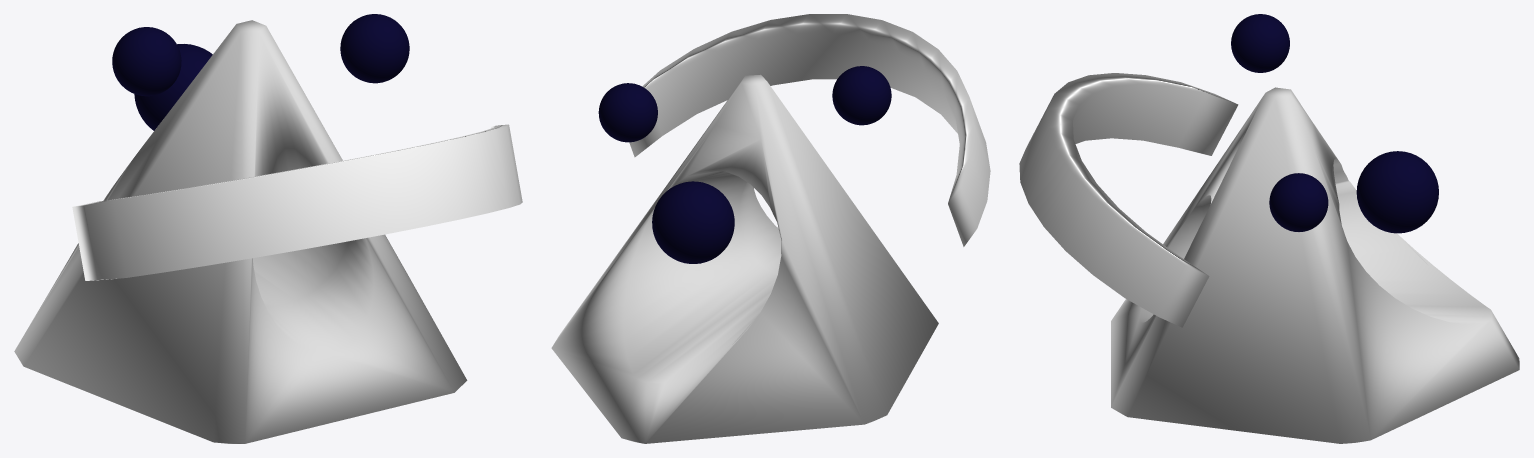
The model's file is TriAngleManBooleanApplied2.fbx.
3 renders of one model, left to right at view 1: azimuth 30°, elevation 25°; view 2: azimuth 150°, elevation 25°; view 3: azimuth 270°, elevation 25°, orthographic. The views are drawn at different scales.
Visible parts, largest first — view 1: Cone.001, Cylinder.002, Icosphere.002, Icosphere.001, Icosphere; view 2: Cone.001, Cylinder.002, Icosphere, Icosphere.001, Icosphere.002; view 3: Cone.001, Cylinder.002, Icosphere, Icosphere.001, Icosphere.002.
Boxes of the visible parts, x1,y1,x2,y2 form: Cone.001: (14,20,467,443); Cylinder.002: (72,124,522,280); Icosphere.002: (112,27,181,96); Icosphere.001: (340,14,409,83); Icosphere: (134,44,212,130); Cone.001: (551,74,938,443); Cylinder.002: (629,14,990,246); Icosphere: (652,181,734,263); Icosphere.001: (598,83,657,142); Icosphere.002: (832,66,891,125); Cone.001: (1111,87,1519,443); Cylinder.002: (1019,73,1238,327); Icosphere: (1356,151,1438,233); Icosphere.001: (1269,173,1328,231); Icosphere.002: (1231,14,1289,72).
Size of the model in its own units: 263 by 219 by 330.
